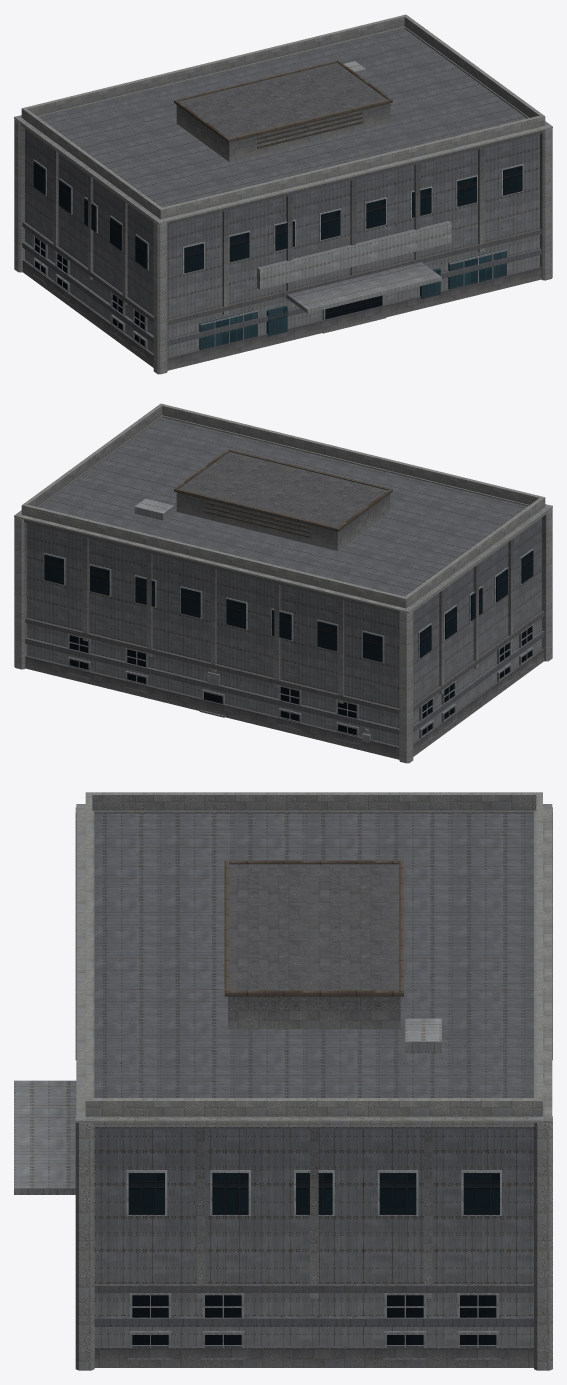
Rendered from ironport-cinema-center_lod0.gltf.
3 renders of one model, top to bottom at view 1: azimuth 30°, elevation 25°; view 2: azimuth 150°, elevation 25°; view 3: azimuth 270°, elevation 25°, orthographic. The views are drawn at different scales.
Parts seen in each view (by area): view 1: ironport-cinema-center_main, ironport-cinema-center__v4_stone_detail, ironport-cinema-center__parapet, ironport-cinema-center_fen_07-glass-curtain-blue_1_t, ironport-cinema-center__marquee_band, ironport-cinema-center_fen_14-steel-panel_0, ironport-cinema-center__marquee, ironport-cinema-center__v4_metal_detail, ironport-cinema-center_fen_07-glass-curtain-blue_4, ironport-cinema-center__trim_band, ironport-cinema-center__poster_a; view 2: ironport-cinema-center_main, ironport-cinema-center__v4_stone_detail, ironport-cinema-center__parapet, ironport-cinema-center_fen_07-glass-curtain-blue_1_t, ironport-cinema-center_fen_14-steel-panel_0, ironport-cinema-center__trim_band, ironport-cinema-center__v4_metal_detail, ironport-cinema-center__hvac; view 3: ironport-cinema-center_main, ironport-cinema-center__v4_stone_detail, ironport-cinema-center_fen_07-glass-curtain-blue_1_t, ironport-cinema-center__marquee, ironport-cinema-center__parapet, ironport-cinema-center_fen_14-steel-panel_0, ironport-cinema-center__trim_band, ironport-cinema-center__v4_metal_detail, ironport-cinema-center__hvac.
Part boxes in pixels (bbox=[...]): ironport-cinema-center_main: bbox=[25, 28, 539, 356]; ironport-cinema-center__v4_stone_detail: bbox=[14, 14, 552, 374]; ironport-cinema-center__parapet: bbox=[39, 29, 541, 224]; ironport-cinema-center_fen_07-glass-curtain-blue_1_t: bbox=[33, 161, 522, 346]; ironport-cinema-center__marquee_band: bbox=[257, 221, 451, 289]; ironport-cinema-center_fen_14-steel-panel_0: bbox=[32, 159, 523, 357]; ironport-cinema-center__marquee: bbox=[285, 262, 441, 313]; ironport-cinema-center__v4_metal_detail: bbox=[174, 60, 392, 148]; ironport-cinema-center_fen_07-glass-curtain-blue_4: bbox=[199, 249, 506, 350]; ironport-cinema-center__trim_band: bbox=[22, 241, 541, 345]; ironport-cinema-center__poster_a: bbox=[266, 305, 287, 336]; ironport-cinema-center_main: bbox=[27, 417, 541, 745]; ironport-cinema-center__v4_stone_detail: bbox=[14, 403, 552, 763]; ironport-cinema-center__parapet: bbox=[25, 418, 527, 613]; ironport-cinema-center_fen_07-glass-curtain-blue_1_t: bbox=[44, 550, 533, 736]; ironport-cinema-center_fen_14-steel-panel_0: bbox=[43, 548, 534, 746]; ironport-cinema-center__trim_band: bbox=[25, 630, 544, 734]; ironport-cinema-center__v4_metal_detail: bbox=[174, 449, 392, 537]; ironport-cinema-center__hvac: bbox=[134, 498, 174, 520]; ironport-cinema-center_main: bbox=[94, 814, 533, 1345]; ironport-cinema-center__v4_stone_detail: bbox=[75, 792, 552, 1370]; ironport-cinema-center_fen_07-glass-curtain-blue_1_t: bbox=[128, 1173, 499, 1347]; ironport-cinema-center__marquee: bbox=[14, 1080, 76, 1194]; ironport-cinema-center__parapet: bbox=[94, 814, 533, 1128]; ironport-cinema-center_fen_14-steel-panel_0: bbox=[126, 1170, 501, 1359]; ironport-cinema-center__trim_band: bbox=[94, 1316, 533, 1326]; ironport-cinema-center__v4_metal_detail: bbox=[224, 860, 403, 996]; ironport-cinema-center__hvac: bbox=[405, 1018, 441, 1052].
Size of the model in its own units: 41.23 by 17.3 by 29.61.
